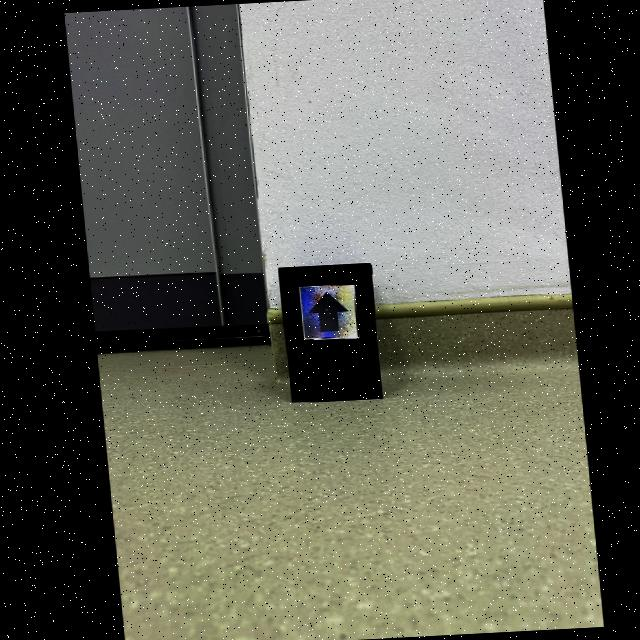UP: (306, 292, 346, 332)
